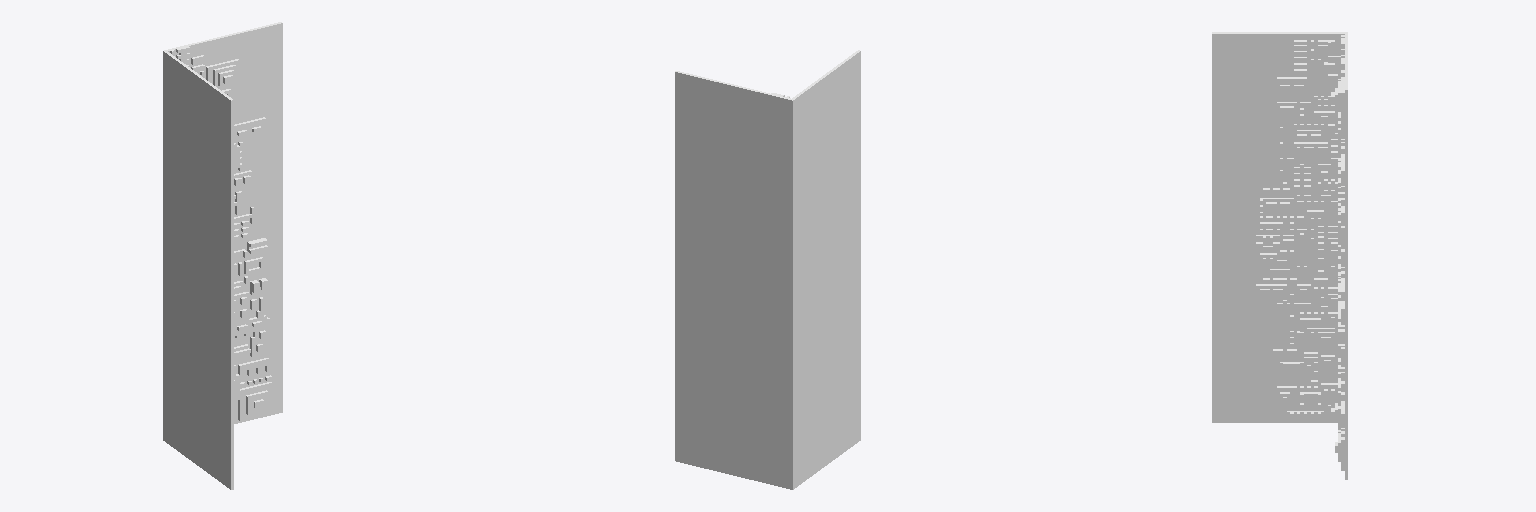
The model's file is Background.obj.
The picture shows the model from 3 angles: view 1: azimuth 30°, elevation 25°; view 2: azimuth 150°, elevation 25°; view 3: azimuth 270°, elevation 25°; orthographic projection.
Parts seen in each view (by area): view 1: object 1; view 2: object 1; view 3: object 1.
Boxes of the visible parts, x1=… form: object 1: x1=163, y1=22, x2=282, y2=489; object 1: x1=675, y1=50, x2=860, y2=489; object 1: x1=1212, y1=32, x2=1347, y2=479.
Bounding box in the file's own units: 4 × 12.6 × 4.